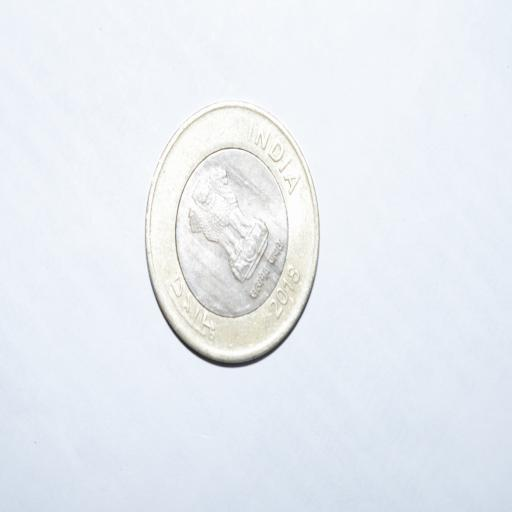rupee10: (145, 99, 321, 362)
